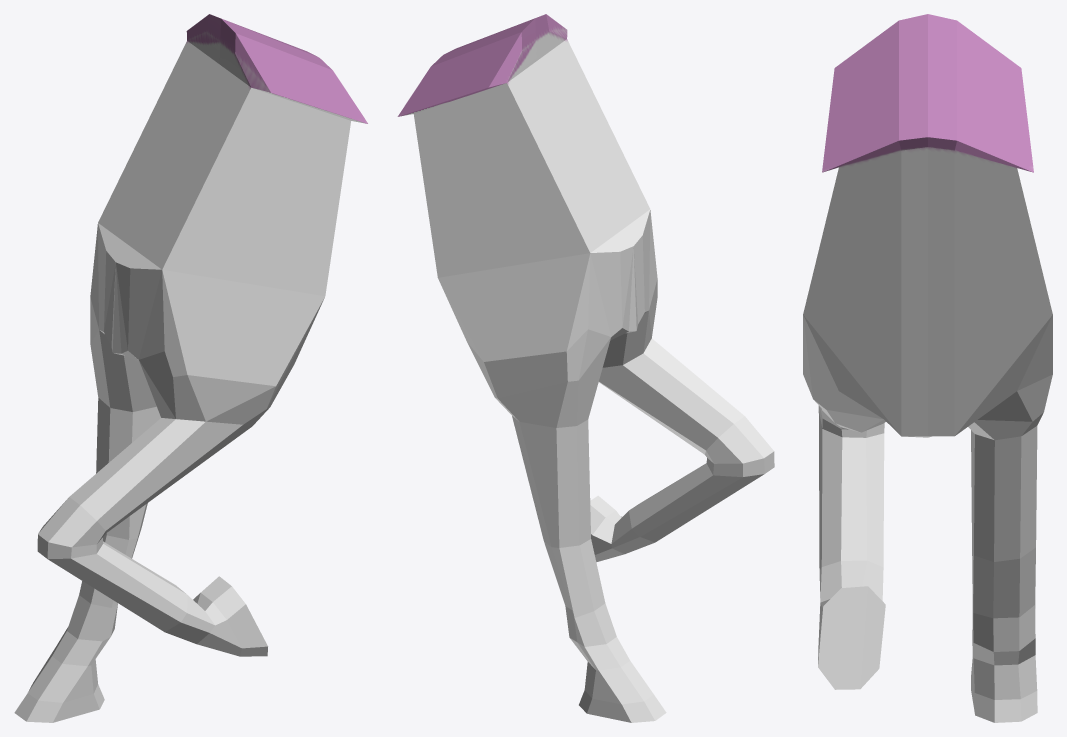
The model's file is Unicon_Separate_FrontFoot.fbx.
3 renders of one model, left to right at view 1: azimuth 30°, elevation 25°; view 2: azimuth 150°, elevation 25°; view 3: azimuth 270°, elevation 25°, orthographic. The views are drawn at different scales.
Parts seen in each view (by area): view 1: Unicon_Separate_FrontFoot; view 2: Unicon_Separate_FrontFoot; view 3: Unicon_Separate_FrontFoot.
Boxes of the visible parts, x1,y1,x2,y2 form: Unicon_Separate_FrontFoot: (14, 14, 367, 722); Unicon_Separate_FrontFoot: (397, 14, 774, 722); Unicon_Separate_FrontFoot: (803, 14, 1052, 722).
Bounding box in the file's own units: 1.38 × 2.87 × 0.8595.
